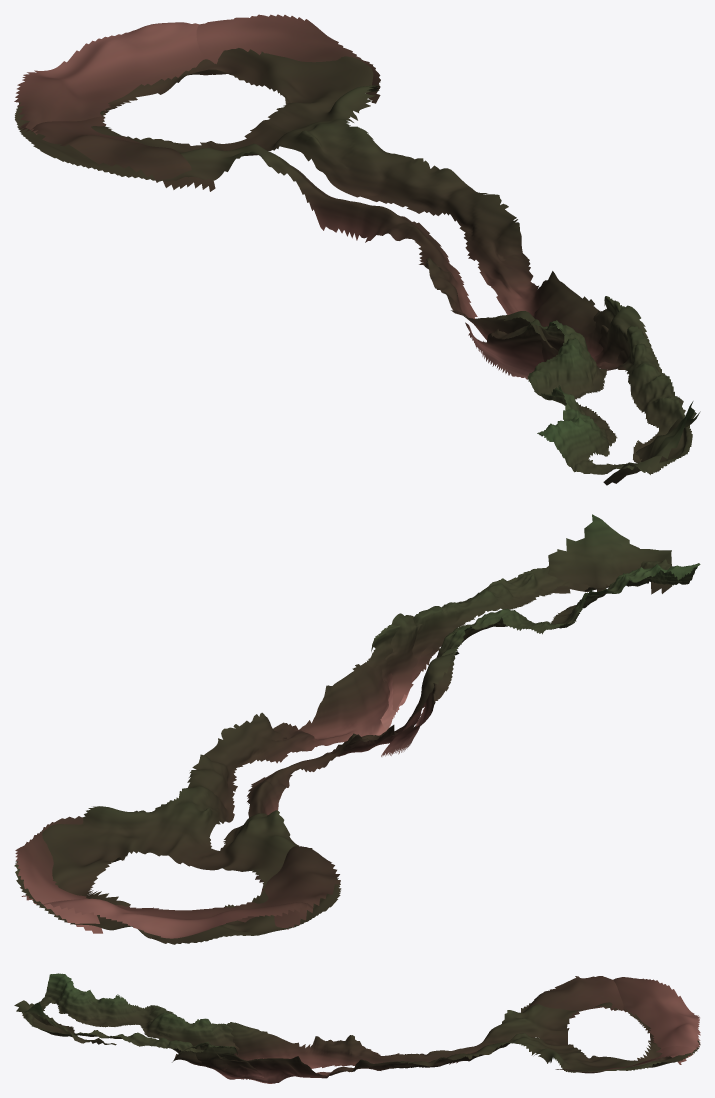
Rendered from Colider_Bordemontana.fbx.
The picture shows the model from 3 angles, top to bottom: view 1: azimuth 30°, elevation 25°; view 2: azimuth 150°, elevation 25°; view 3: azimuth 270°, elevation 25°; orthographic projection. The views are drawn at different scales.
Visible parts, largest first — view 1: Colider_montaña; view 2: Colider_montaña; view 3: Colider_montaña.
Part boxes in pixels (box(x1,y1,x2,y2)): Colider_montaña: box(14, 14, 700, 485); Colider_montaña: box(14, 514, 700, 944); Colider_montaña: box(14, 973, 700, 1083).
Size of the model in its own units: 403 by 144 by 1244.
